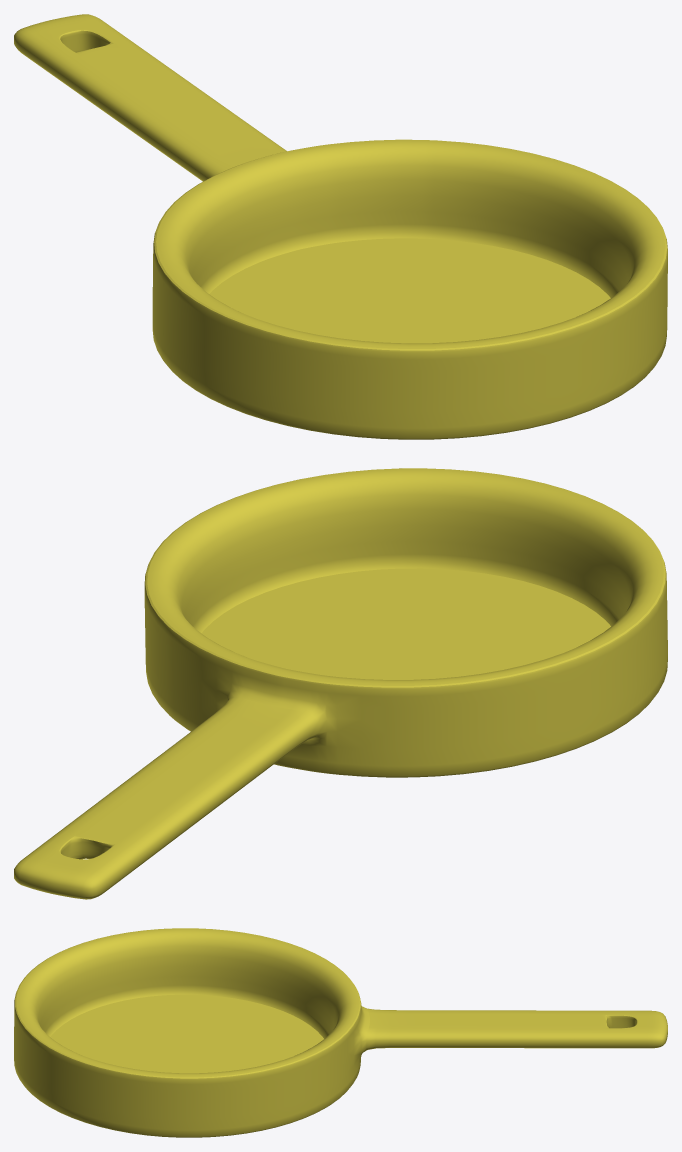
File: sarten3.fbx
3 views of the same model, one above another, from view 1: azimuth 30°, elevation 25°; view 2: azimuth 150°, elevation 25°; view 3: azimuth 270°, elevation 25° (orthographic). The views are drawn at different scales.
Visible parts, largest first — view 1: sarten3; view 2: sarten3; view 3: sarten3.
Boxes of the visible parts, x1,y1,x2,y2 form: sarten3: (14,14,667,439); sarten3: (14,468,667,899); sarten3: (14,928,667,1137).
Size of the model in its own units: 30.69 by 6.42 by 57.84.
